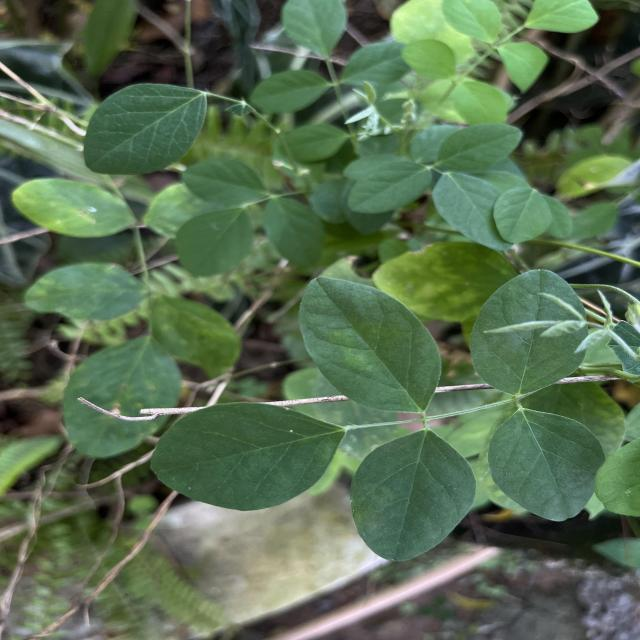Clitoria ternatea: (149, 400, 347, 512), (296, 275, 445, 414), (349, 428, 477, 564), (486, 408, 606, 522), (82, 82, 210, 177)
